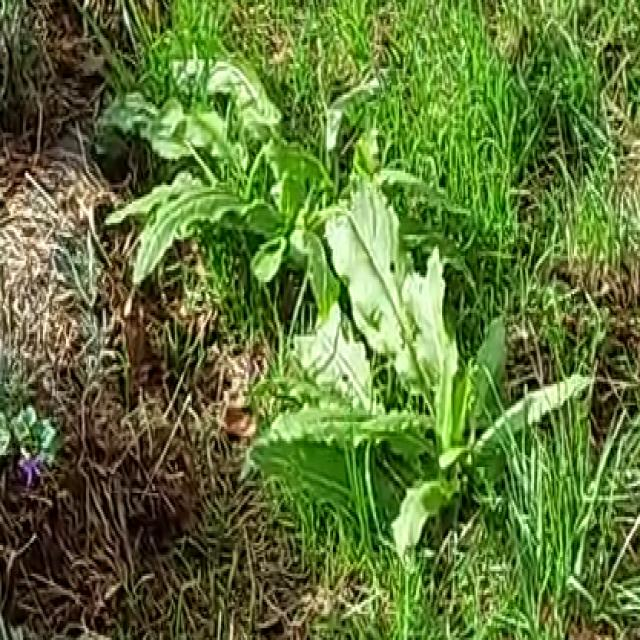organic waste: (229, 128, 571, 638), (110, 19, 372, 348)
